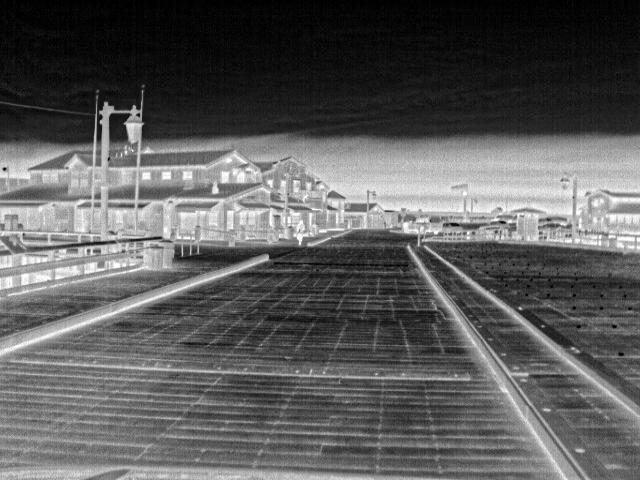car: (401, 215, 444, 234), (476, 220, 509, 230), (441, 222, 463, 234)
person: (292, 218, 306, 248)
